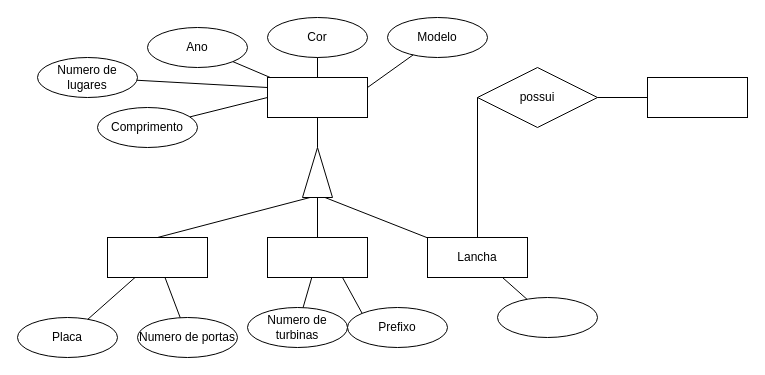
This 765x375 diagram has some shape labels left out. Here are the shapes that lost their labels. From the top down, the centre of each, then its label:
At point 317,97: "Veiculo".
At point 697,97: "Pessoa".
At point 157,257: "Carro".
At point 317,257: "Avião".
At point 547,317: "Numero de motores".
